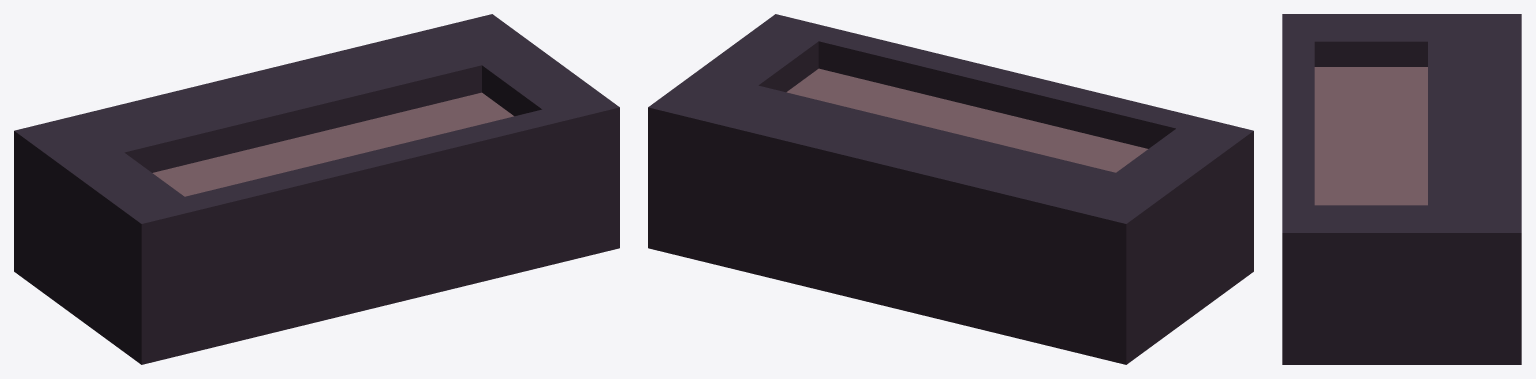
Rendered from PlanterBox_Black01.glb.
3 renders of one model, left to right at view 1: azimuth 30°, elevation 25°; view 2: azimuth 150°, elevation 25°; view 3: azimuth 270°, elevation 25°, orthographic. The views are drawn at different scales.
Visible parts, largest first — view 1: PlanterBox_Black01; view 2: PlanterBox_Black01; view 3: PlanterBox_Black01.
Boxes of the visible parts, x1,y1,x2,y2 form: PlanterBox_Black01: (14, 14, 619, 364); PlanterBox_Black01: (648, 14, 1253, 364); PlanterBox_Black01: (1282, 14, 1521, 364).
Size of the model in its own units: 0.9727 by 0.2738 by 0.4494.
Materials: 1 (1 with a texture image).
